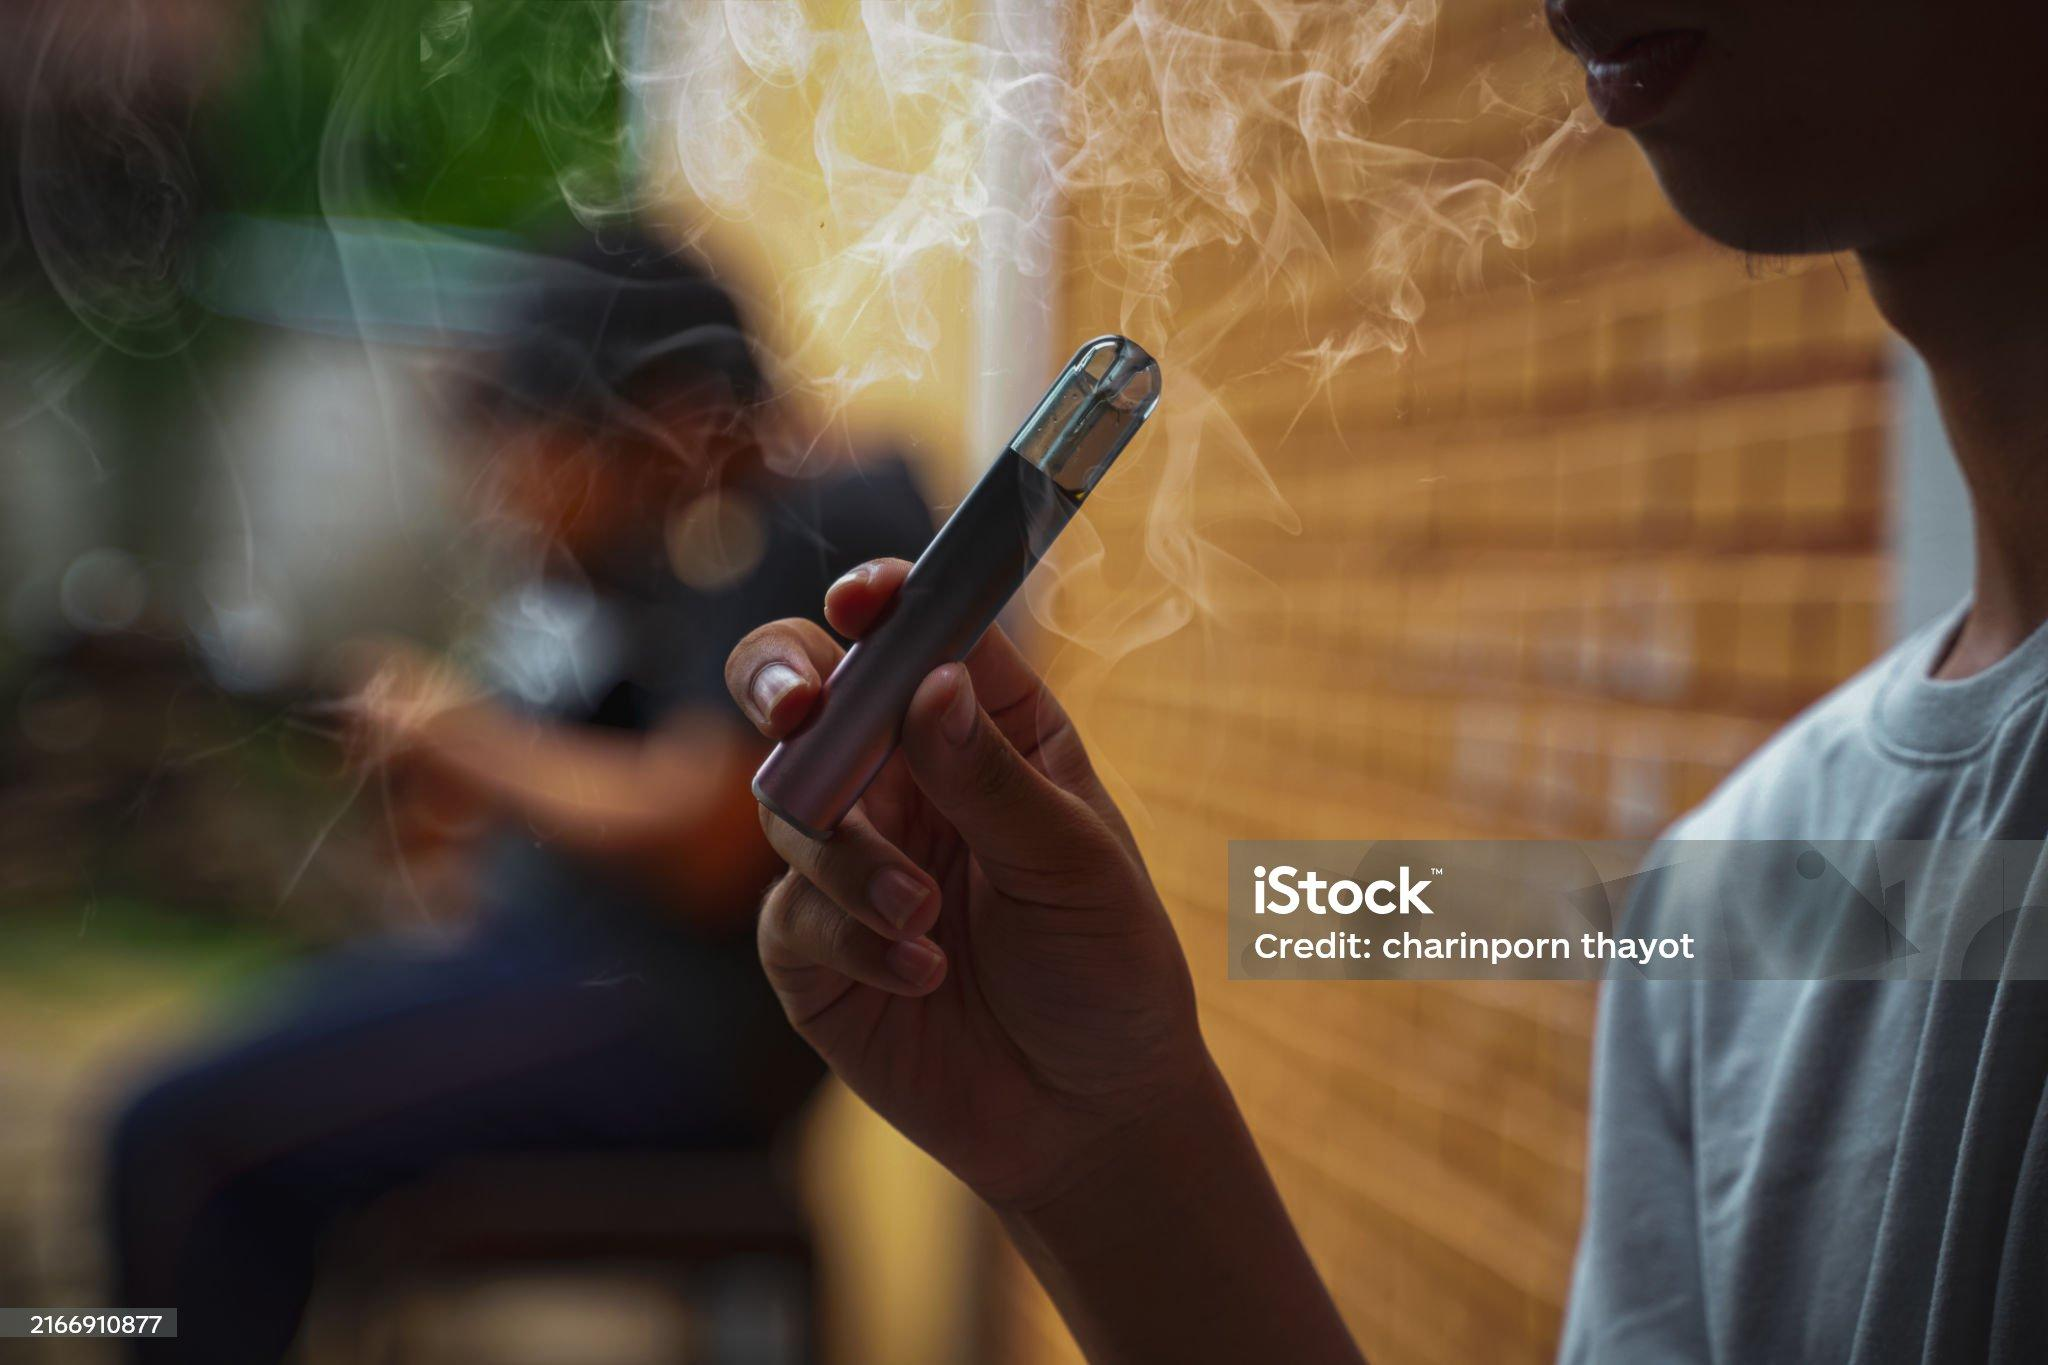Vape: (754, 335, 1160, 841)
